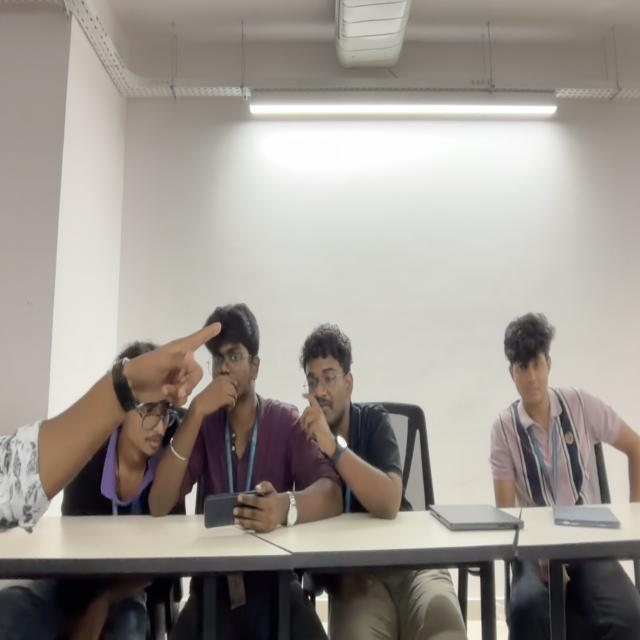Isolated: (490, 310, 640, 504)
socializing: (62, 302, 403, 521)
